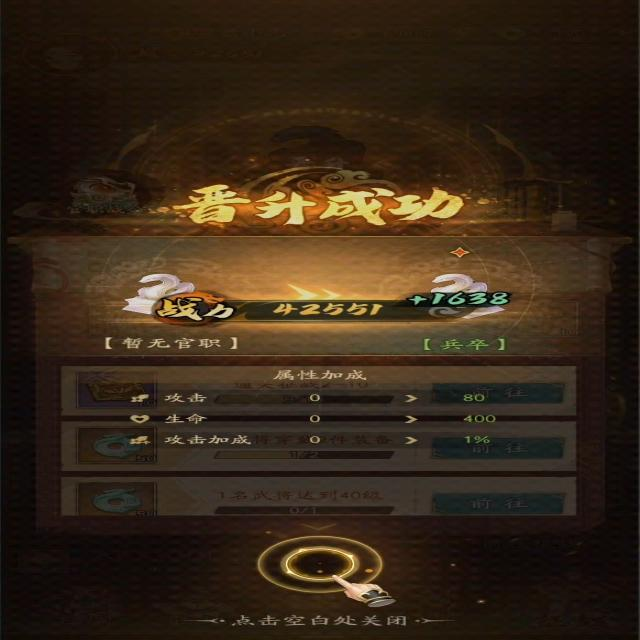hint-guide: (264, 536, 389, 598)
